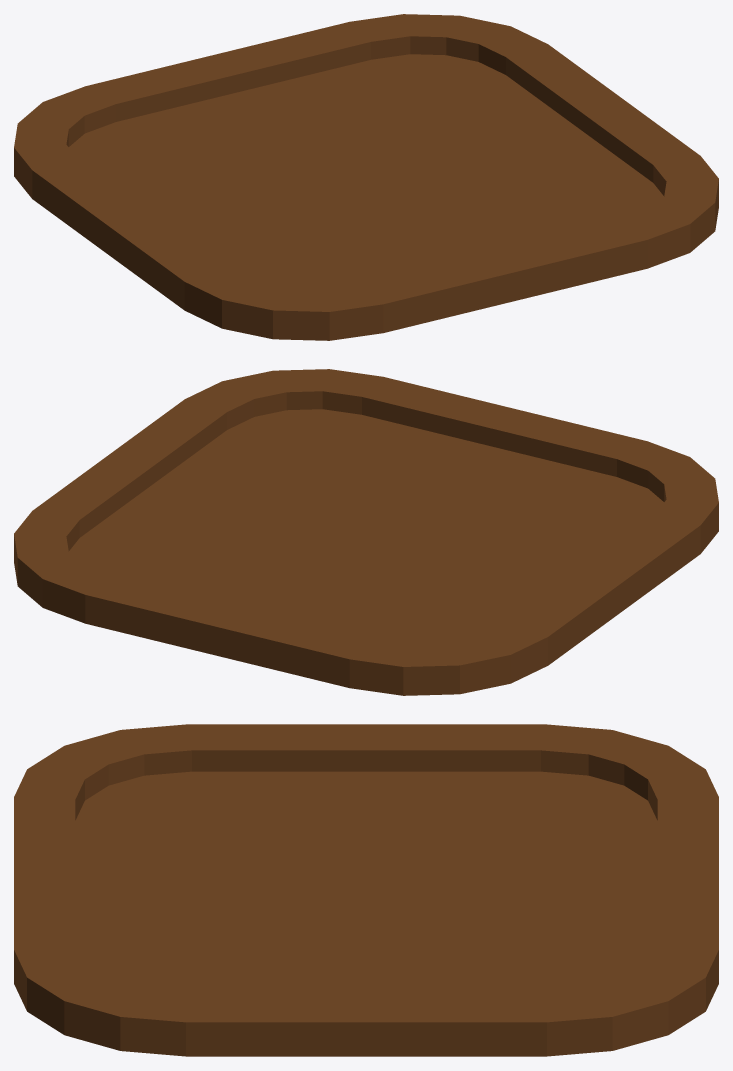
File: SqureroundedPicFrame.fbx
3 renders of one model, top to bottom at view 1: azimuth 30°, elevation 25°; view 2: azimuth 150°, elevation 25°; view 3: azimuth 270°, elevation 25°, orthographic. The views are drawn at different scales.
Parts seen in each view (by area): view 1: Plane; view 2: Plane; view 3: Plane.
Part boxes in pixels (<box>): Plane: <box>14,14,718,340</box>; Plane: <box>14,369,718,695</box>; Plane: <box>14,724,718,1056</box>.
Bounding box in the file's own units: 200 × 10.69 × 200.
